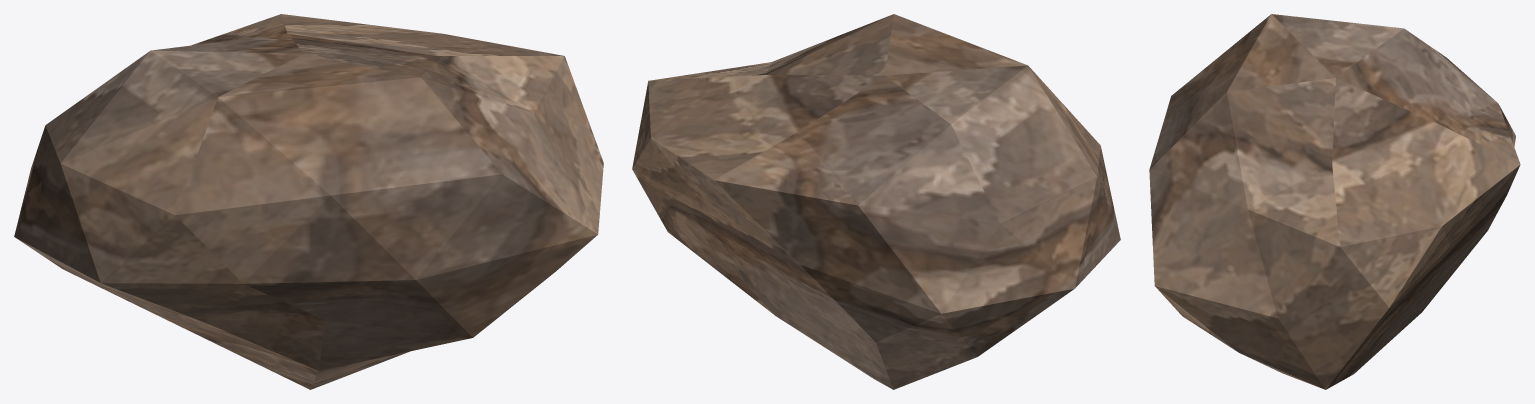
File: rock-m-sharp_lod1.glb
3 views of the same model, side by side, from view 1: azimuth 30°, elevation 25°; view 2: azimuth 150°, elevation 25°; view 3: azimuth 270°, elevation 25° (orthographic). The views are drawn at different scales.
Visible parts, largest first — view 1: rock-m-sharp; view 2: rock-m-sharp; view 3: rock-m-sharp.
Boxes of the visible parts, bbox=[...] form: rock-m-sharp: bbox=[14, 14, 603, 389]; rock-m-sharp: bbox=[632, 14, 1120, 389]; rock-m-sharp: bbox=[1149, 14, 1520, 389].
Size of the model in its own units: 2.35 by 1.54 by 1.7.
1 material, 1 textured.
